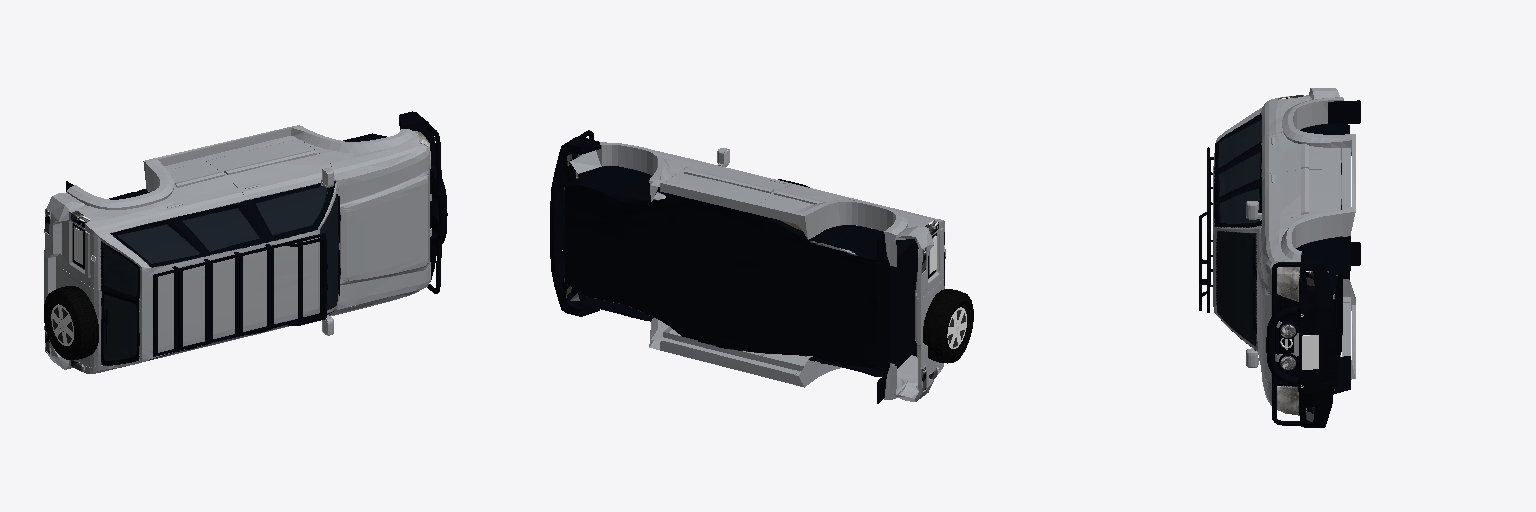
3 renders of one model, left to right at view 1: azimuth 30°, elevation 25°; view 2: azimuth 150°, elevation 25°; view 3: azimuth 270°, elevation 25°, orthographic.
Visible parts, largest first — view 1: Nissan_Chassis_OBJ_0331; view 2: Nissan_Chassis_OBJ_0331; view 3: Nissan_Chassis_OBJ_0331.
Part boxes in pixels (x1,y1,x2,y2): Nissan_Chassis_OBJ_0331: (44, 111, 447, 373); Nissan_Chassis_OBJ_0331: (550, 130, 973, 403); Nissan_Chassis_OBJ_0331: (1199, 88, 1360, 427).
Bounding box in the file's own units: 5.33 × 2.24 × 1.91.
Materials: 7 (5 with a texture image).